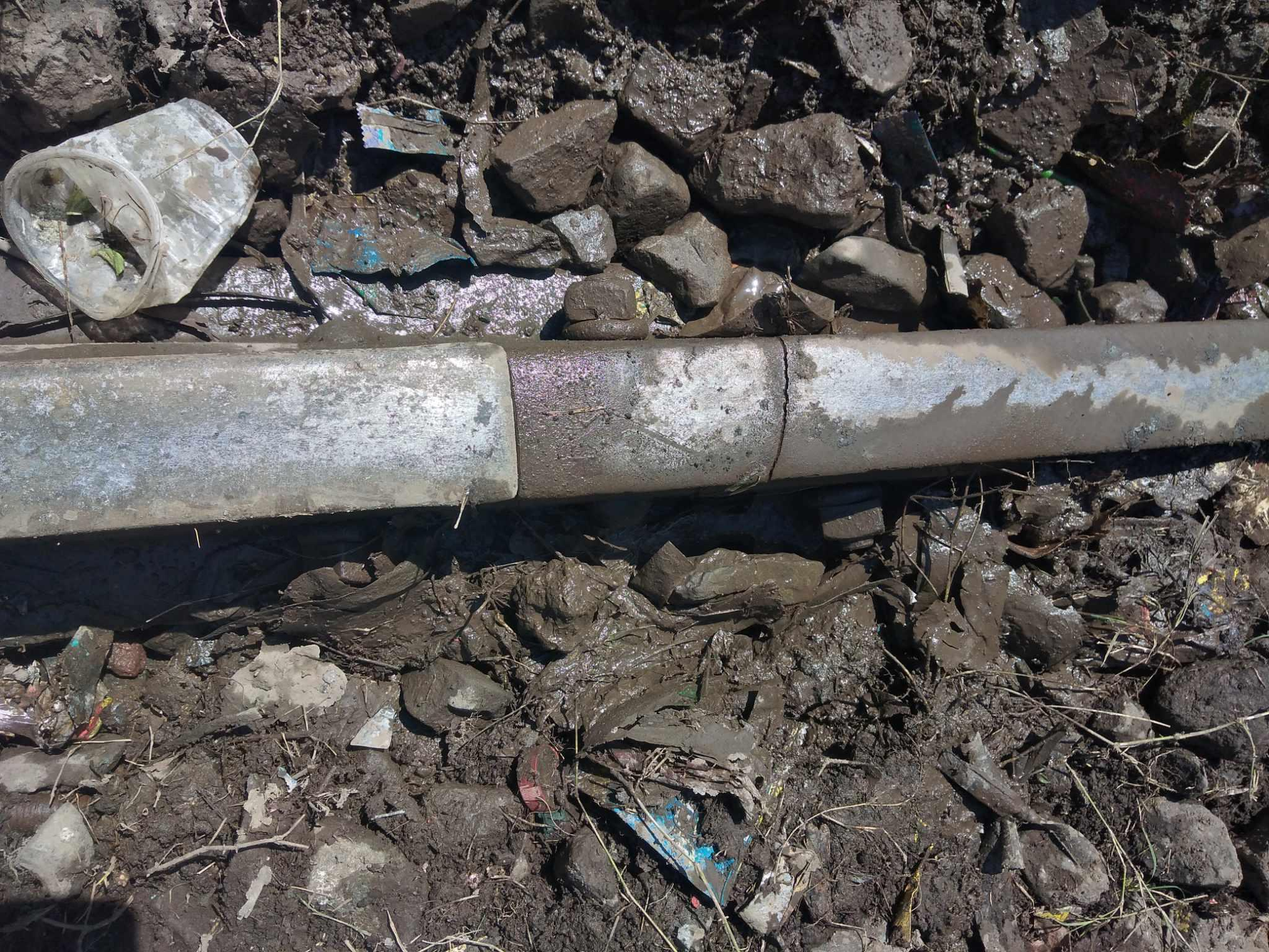railway-gap: (431, 331, 602, 521), (694, 327, 871, 505)
